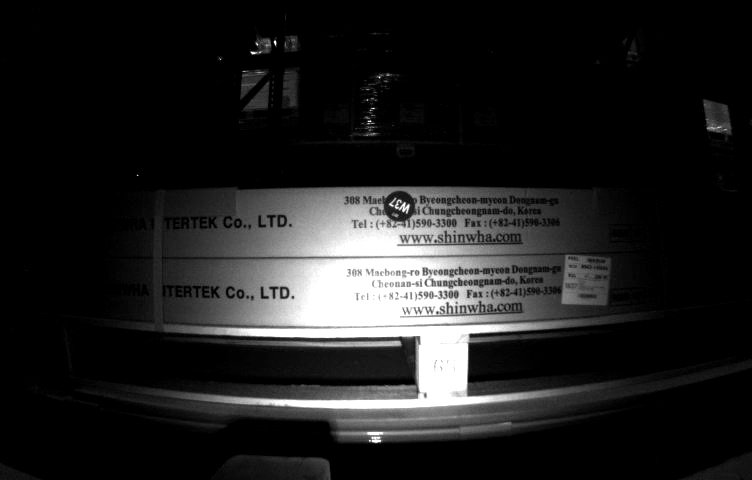True Barcode: (561, 252, 615, 305)
